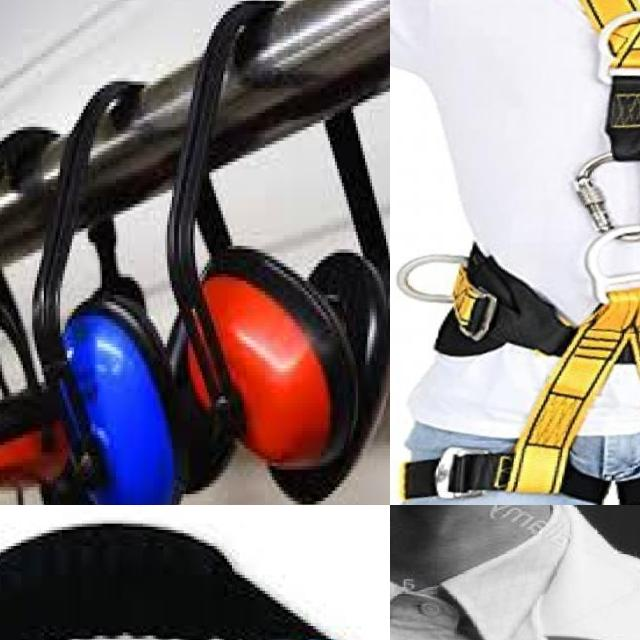Ear-protection: (182, 238, 354, 470), (43, 294, 183, 505), (0, 361, 59, 492)
Harness: (436, 0, 640, 505)
